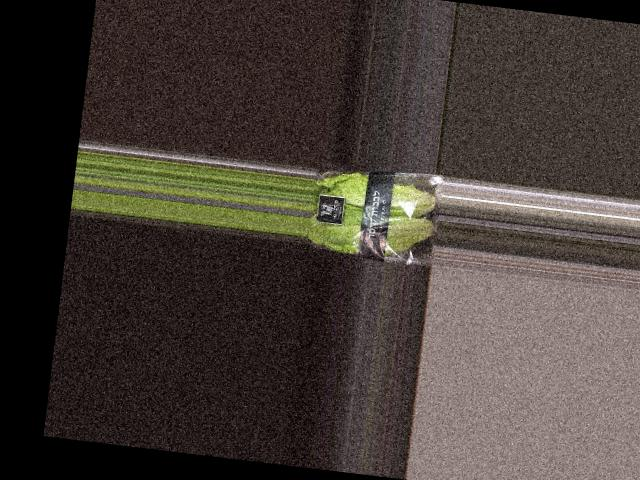lettuce: (308, 160, 444, 262)
